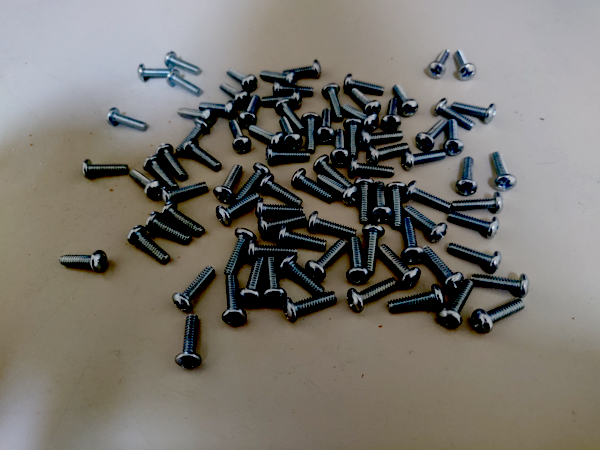shortscrew: (471, 298, 526, 335), (173, 266, 216, 312), (422, 245, 464, 291), (378, 245, 422, 288), (280, 253, 324, 295), (438, 279, 474, 330), (306, 239, 348, 282), (347, 278, 399, 312), (127, 225, 171, 264), (388, 284, 445, 314), (284, 291, 337, 323), (448, 243, 502, 274), (403, 206, 448, 243), (161, 201, 206, 237), (145, 211, 192, 245), (471, 273, 531, 298), (404, 180, 452, 211), (225, 229, 257, 275), (292, 169, 335, 203), (176, 315, 203, 369), (216, 193, 260, 226), (259, 174, 303, 207), (234, 164, 271, 202), (448, 212, 500, 239), (307, 211, 357, 238), (278, 224, 327, 251), (434, 98, 475, 130), (238, 258, 265, 306), (183, 139, 222, 172), (222, 275, 247, 326), (362, 224, 386, 277), (143, 155, 179, 190), (177, 118, 211, 155), (314, 155, 353, 187), (318, 175, 359, 205), (346, 237, 371, 285), (258, 214, 308, 238), (156, 143, 188, 180), (263, 257, 287, 306), (451, 193, 503, 215), (214, 164, 243, 203), (59, 250, 108, 273), (247, 240, 298, 262), (401, 148, 447, 172), (401, 217, 424, 264), (452, 101, 497, 125), (82, 158, 130, 180), (385, 182, 407, 230), (416, 119, 448, 152), (492, 151, 518, 191), (366, 143, 411, 166), (349, 156, 394, 179), (276, 99, 306, 133), (129, 169, 163, 199), (161, 182, 209, 203), (256, 198, 305, 218), (167, 69, 203, 96), (343, 104, 379, 131), (107, 108, 149, 131), (370, 181, 393, 223), (355, 178, 376, 224), (249, 124, 286, 150), (165, 51, 202, 76), (265, 145, 311, 165), (345, 74, 385, 97), (359, 128, 404, 148), (350, 89, 381, 118), (393, 84, 419, 118), (456, 157, 478, 197), (261, 90, 304, 110), (279, 116, 303, 151), (322, 84, 344, 122), (344, 118, 364, 159), (220, 83, 251, 109), (229, 120, 252, 155), (199, 100, 238, 120), (228, 68, 259, 93), (445, 119, 465, 157), (283, 60, 321, 79), (273, 80, 315, 97), (331, 129, 350, 166), (239, 95, 260, 128), (427, 49, 450, 79), (382, 98, 402, 132), (456, 49, 477, 81), (139, 64, 174, 83), (178, 107, 217, 124), (260, 71, 297, 86)
